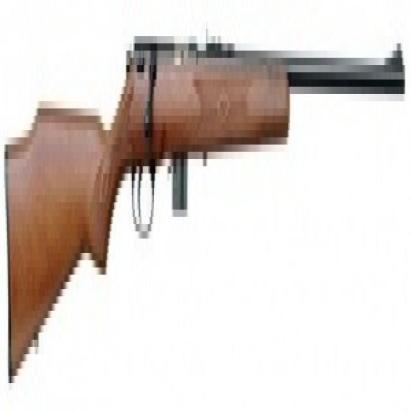Gun: (5, 26, 406, 412)
